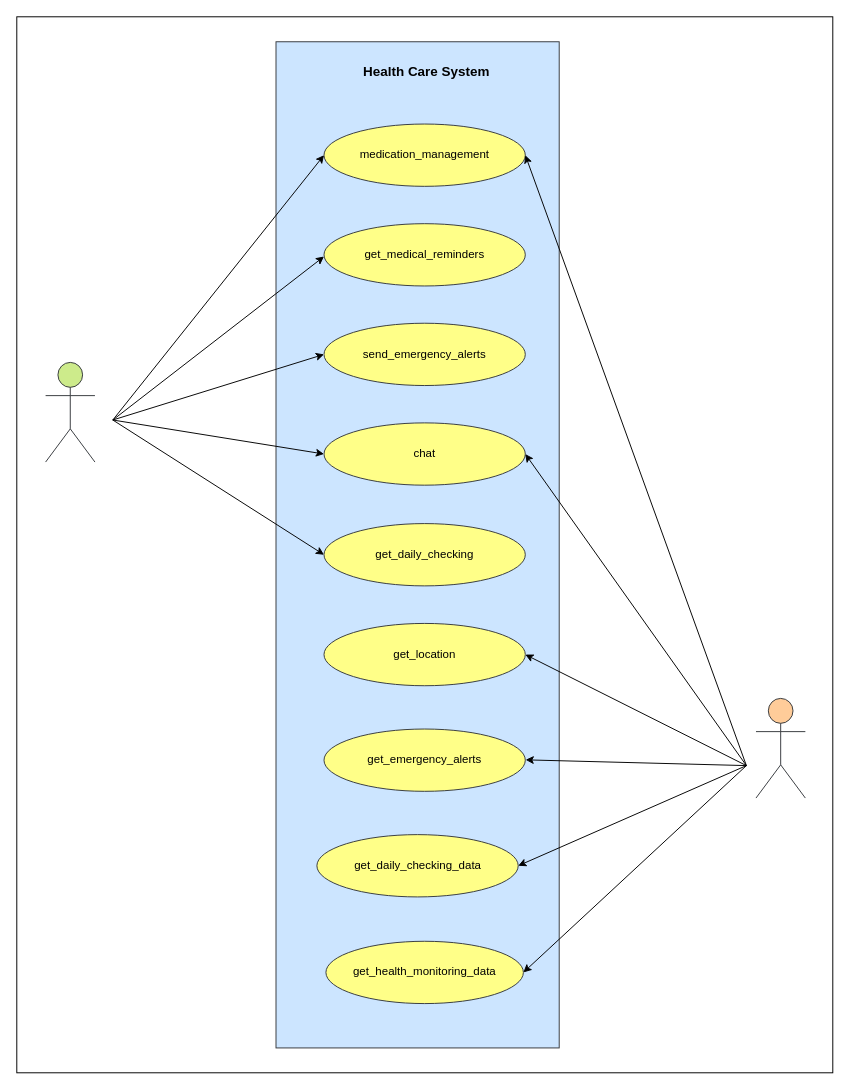
This 850x1090 diagram has some shape labels left out. The shapes that lost their labels are listed below. From the top down, each one's centre as x and y in pixels, then its label:
At pixel 70 411: "Elderly User".
At pixel 780 747: "Family/Caregivers".
